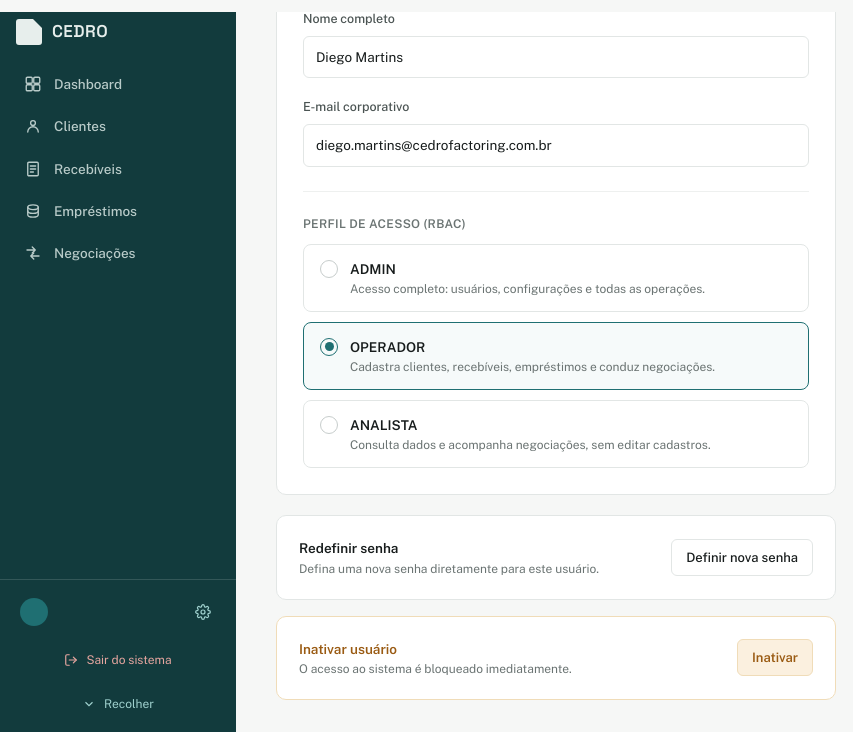
Test: UsuarioEditarPage › resets the password via the Redefinir senha panel
(page scrolled)
Expected: the field showing "Diego Martins" is shown, [303,36,809,78]
Click the button "Definir nova senha" at (742, 557), box [671,539,813,576]
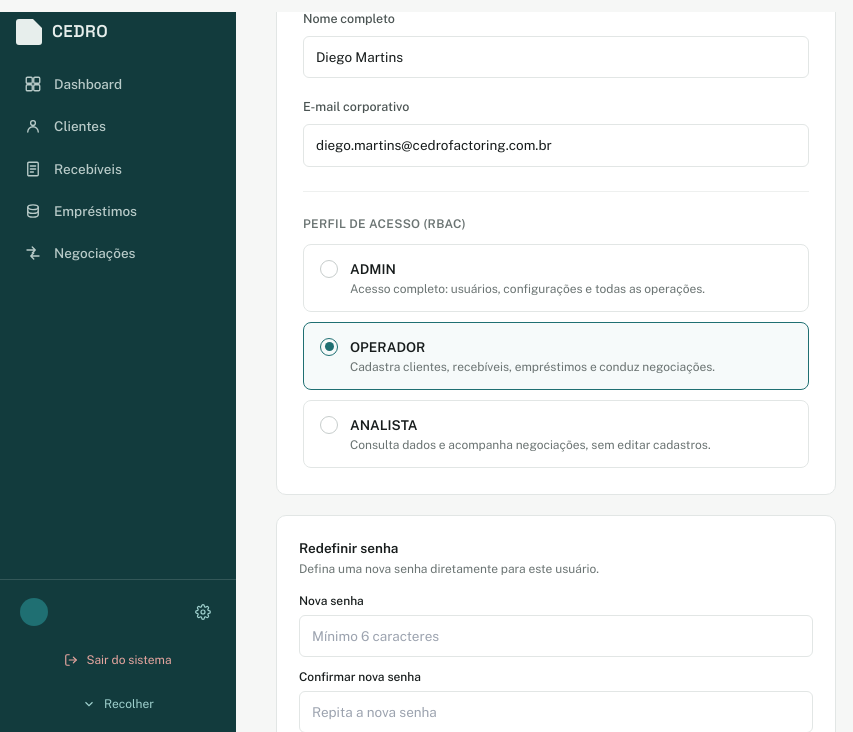
Type "novaSenha123" into the password field labelled "Nova senha" at (556, 636), box [299,614,813,657]
(page scrolled)
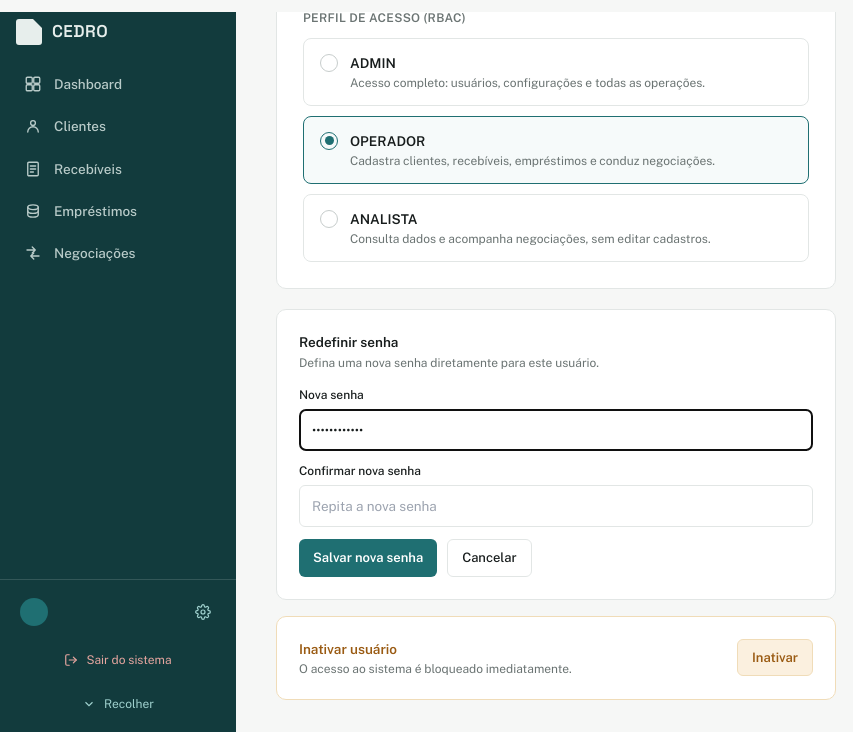
Type "novaSenha123" into the password field labelled "Confirmar nova senha" at (556, 506), box [299,485,813,527]
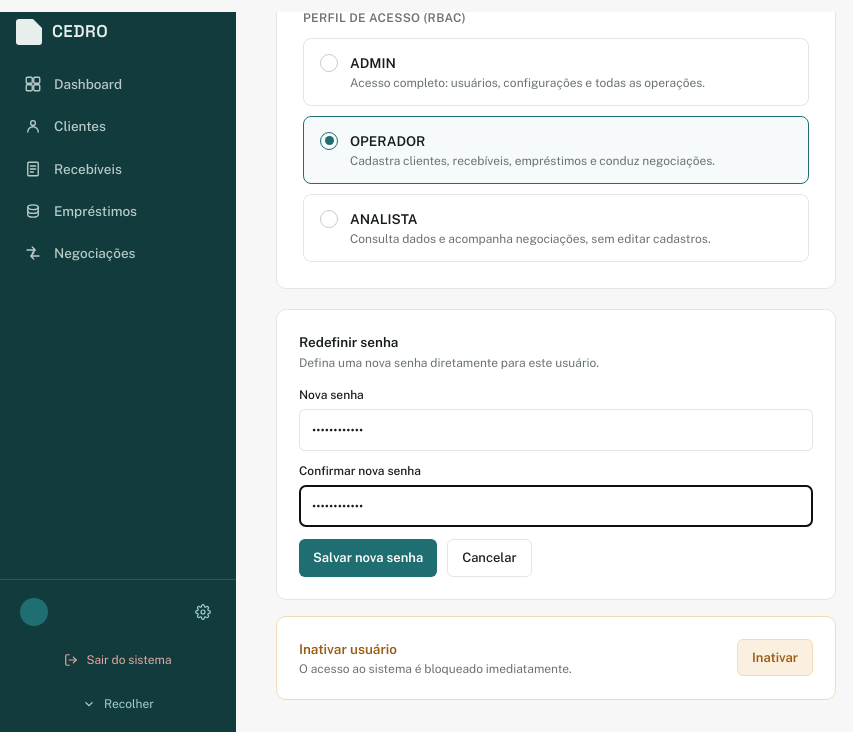
Click the button "Salvar nova senha" at (368, 558), box [299,539,437,576]
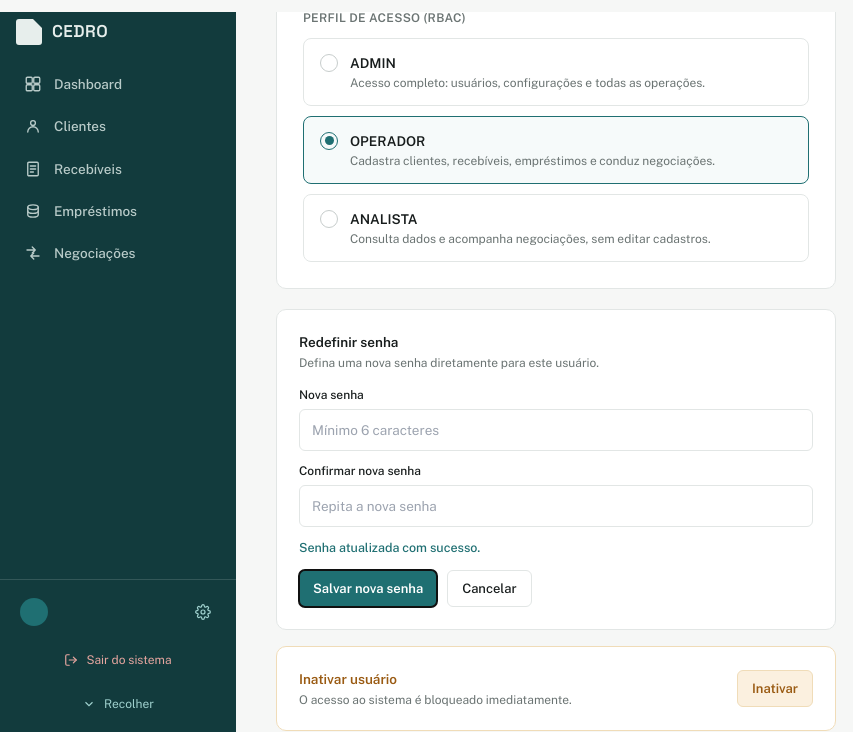
Expected: the text "Senha atualizada com sucesso." is shown, [299,540,480,555]
